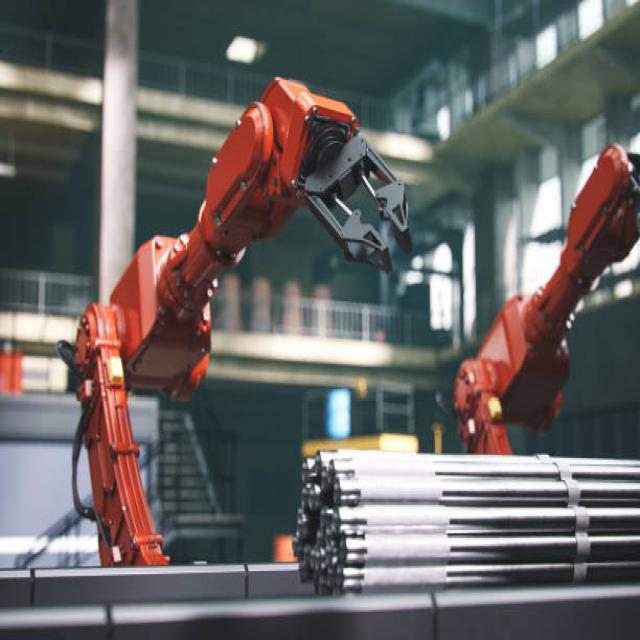Robotic-arm: (49, 60, 410, 579), (454, 138, 640, 454)
